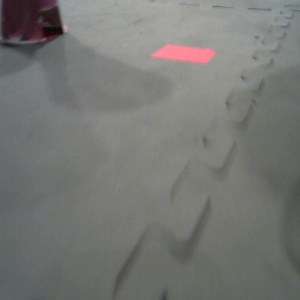middle: (1, 1, 69, 47)
